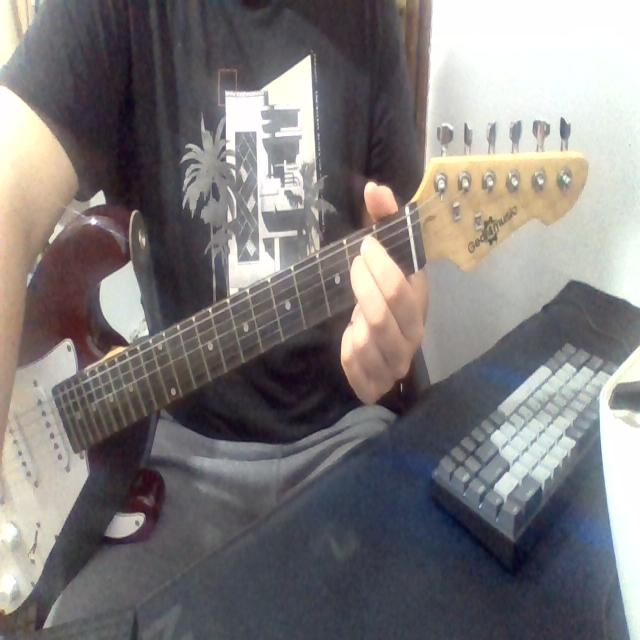Em: (328, 202, 416, 368)
